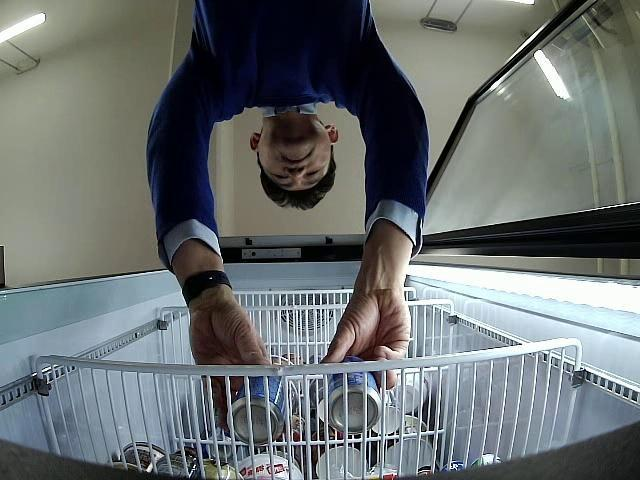15_letsbe: (328, 356, 382, 434), (227, 377, 285, 444)
